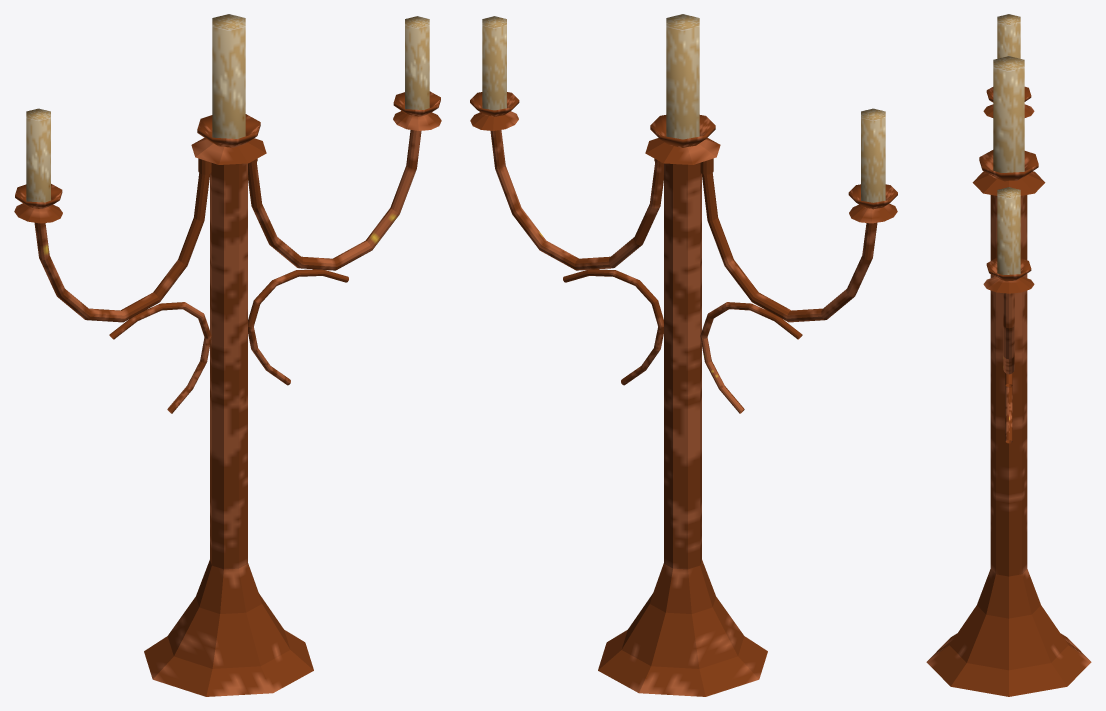
Rendered from SM_Dungeon_Candelabra_Tabletop.fbx.
3 views of the same model, side by side, from view 1: azimuth 30°, elevation 25°; view 2: azimuth 150°, elevation 25°; view 3: azimuth 270°, elevation 25° (orthographic). The views are drawn at different scales.
Parts seen in each view (by area): view 1: SM_Dungeon_Candelabra_Tabletop; view 2: SM_Dungeon_Candelabra_Tabletop; view 3: SM_Dungeon_Candelabra_Tabletop.
Part boxes in pixels (x1,y1,x2,y2): SM_Dungeon_Candelabra_Tabletop: (14,14,441,696); SM_Dungeon_Candelabra_Tabletop: (470,14,897,696); SM_Dungeon_Candelabra_Tabletop: (926,14,1091,696).
Bounding box in the file's own units: 62.15 × 90.39 × 22.6.
